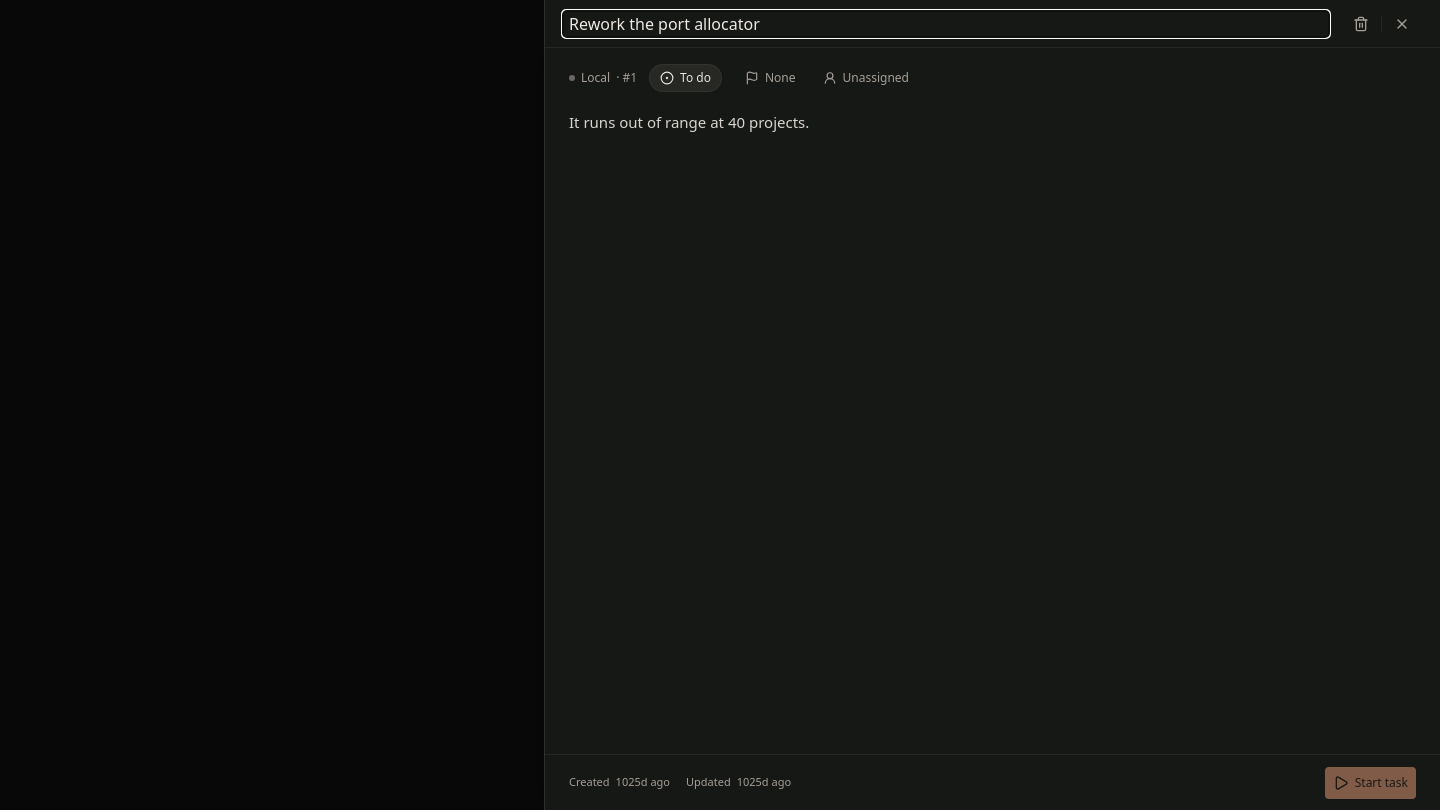
Test case: WorkItemDrawer › cancels a rename on Escape without closing the panel
Click the button "Rework the port allocator".
click(664, 24)  # box [563,10,1329,36]
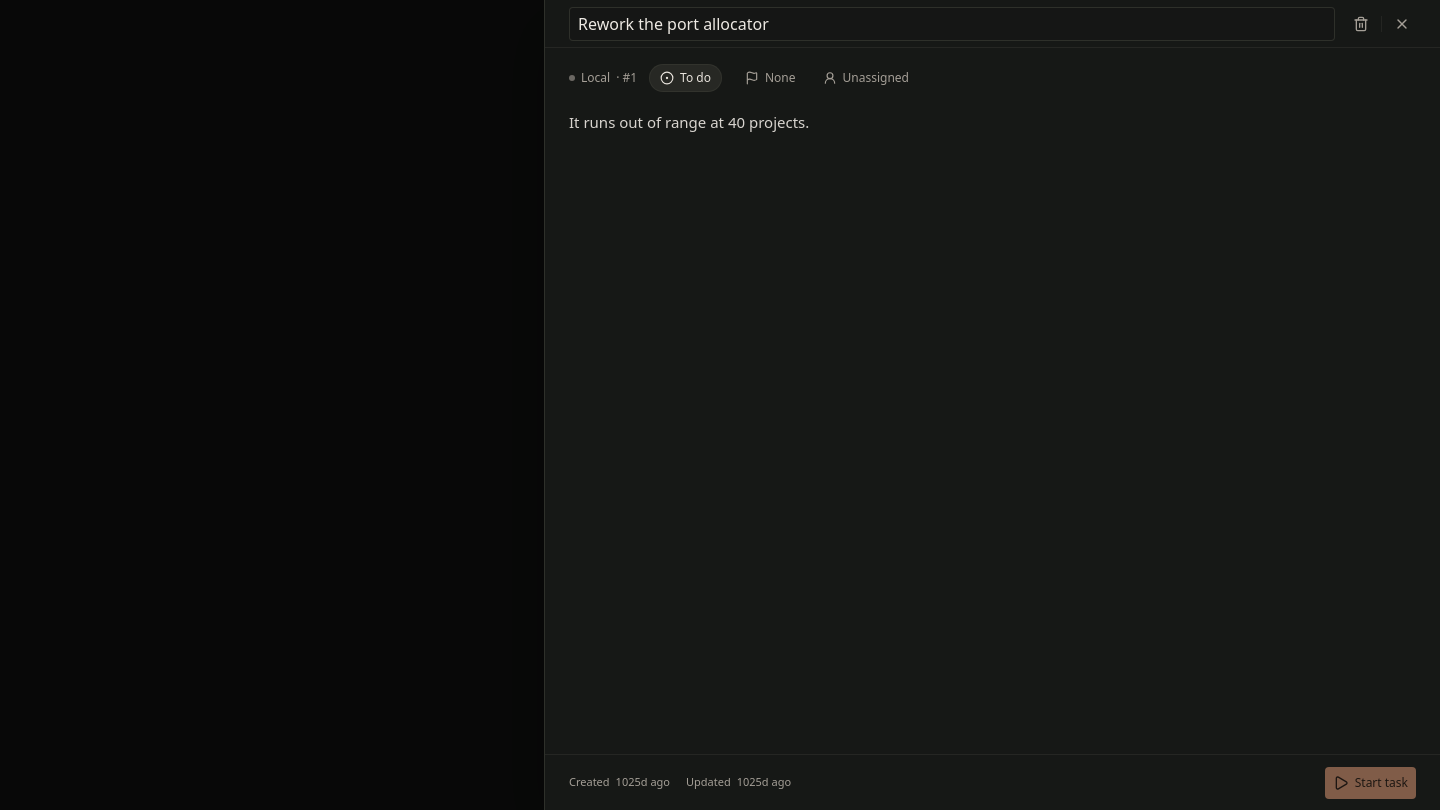
Type " and more" into the field named "Title".
click(952, 24); type(" and more")  # box [569,6,1335,40]
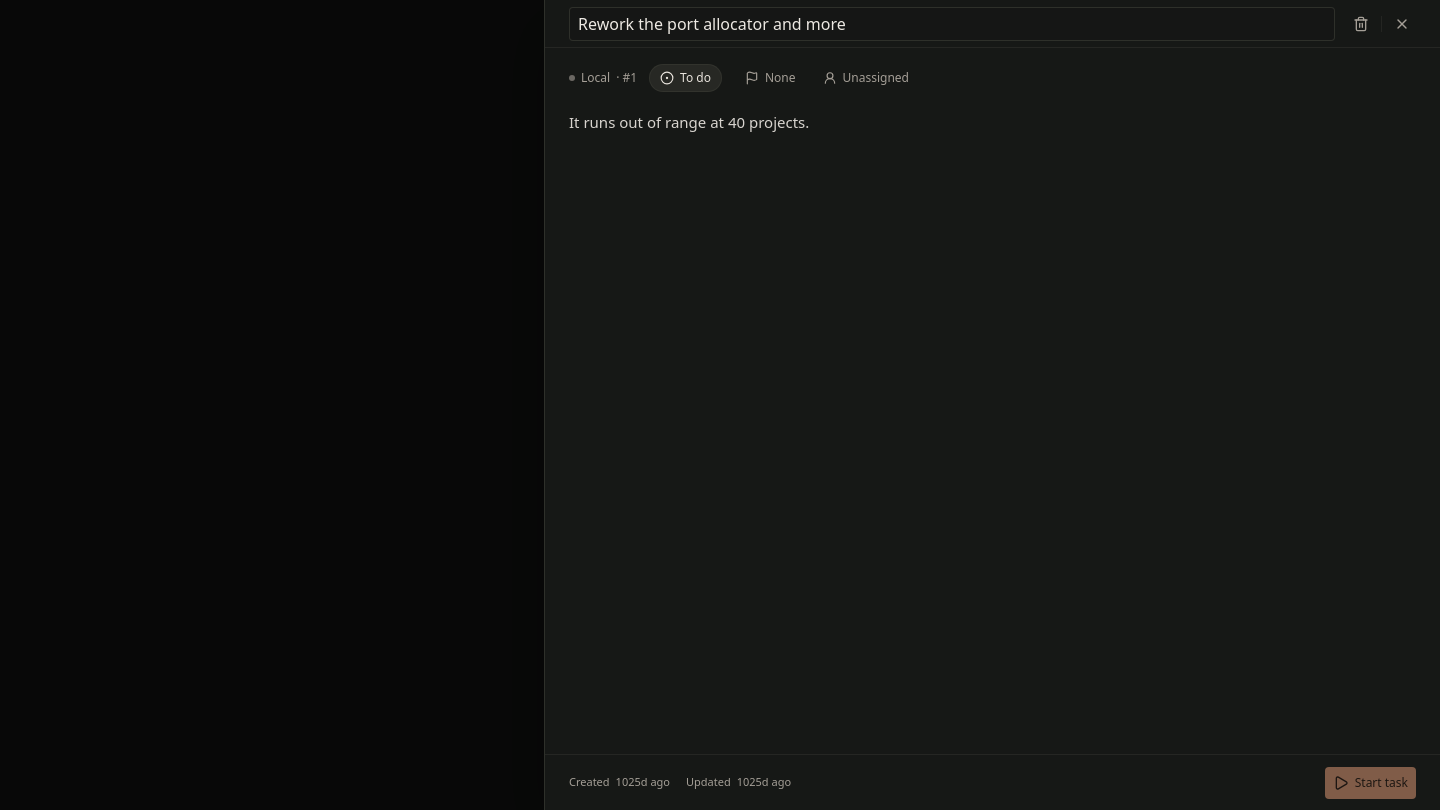
Press Escape
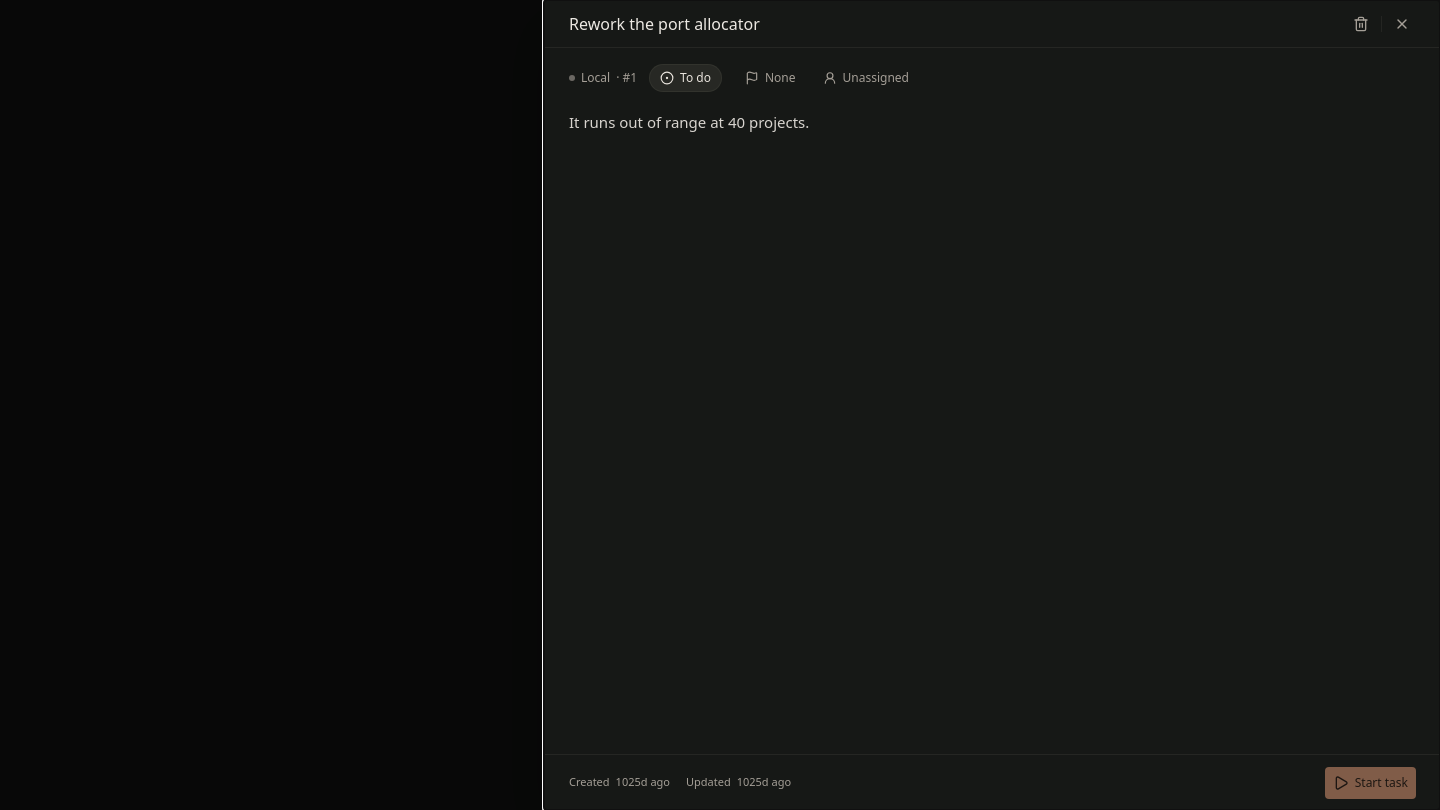
Expected: the field labelled "Title" is gone
Expected: the button "Rework the port allocator" is shown, [563,10,1329,36]
